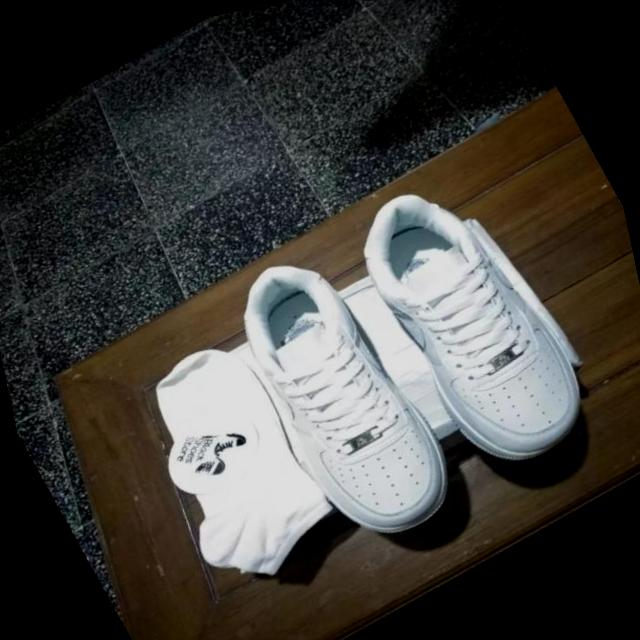nike_fake_airforce: (329, 141, 616, 506), (203, 217, 479, 580)
